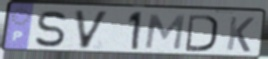1: (126, 10, 145, 53)
D: (184, 13, 219, 53)
K: (224, 15, 256, 54)
M: (142, 13, 187, 52)
S: (33, 10, 69, 49)
V: (73, 9, 111, 51)
